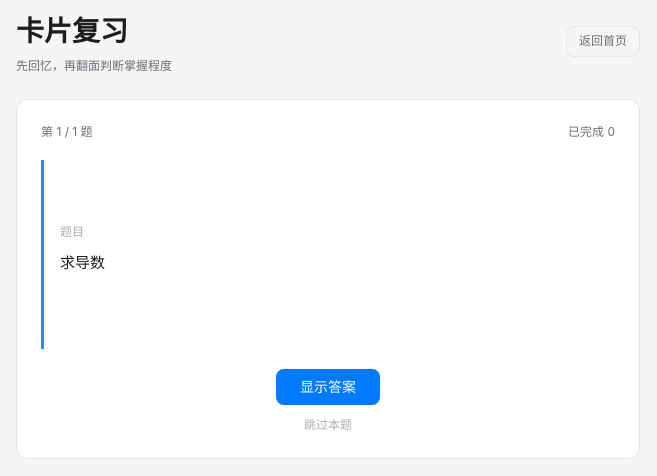
Test case: FlashcardsView › 先显示题目，翻面后才显示答案和质量按钮
Check: the text "使用幂函数求导法则" is not shown
What coordinates should you click on to do the following:
click the button with aria-label "显示答案"
I would click on:
 (83, 263)
Its box is [41,160,615,349].
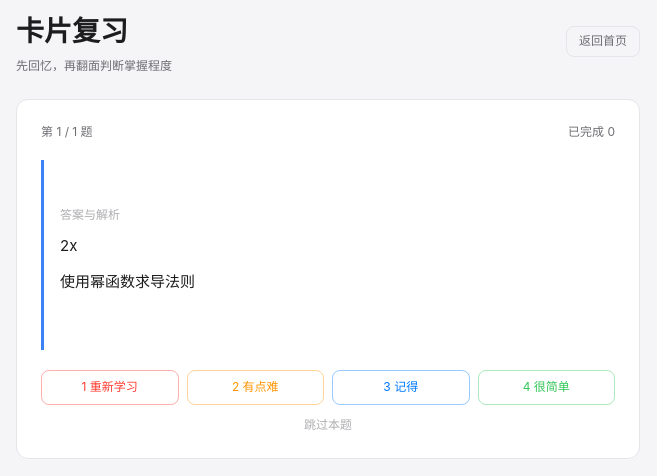
Check: the text "使用幂函数求导法则" is shown, box [60,272,195,291]
Check: the text "重新学习" is shown, box [41,370,178,405]
